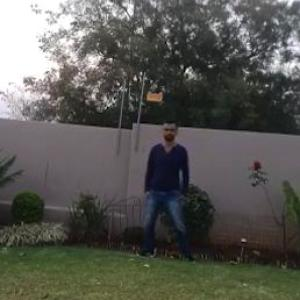follow: (138, 114, 193, 267)
